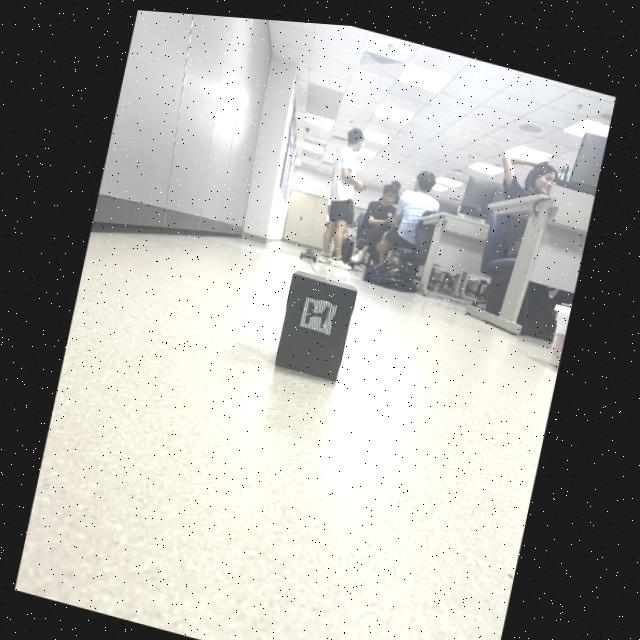H: (307, 298, 330, 323)
